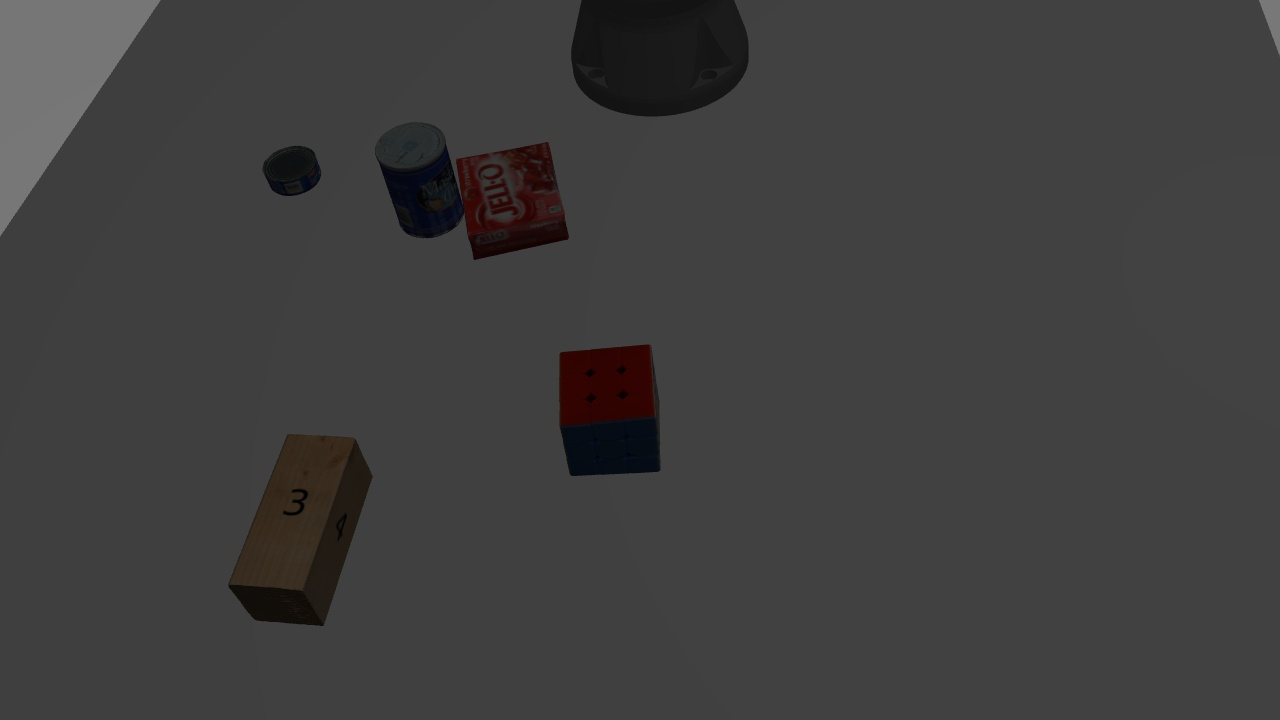gelatin_box: (459, 140, 570, 255)
master_chef_can: (372, 118, 474, 251)
rubiks_cube: (555, 340, 670, 481)
tuna_fish_can: (256, 146, 328, 197)
wood_block: (228, 428, 375, 635)
